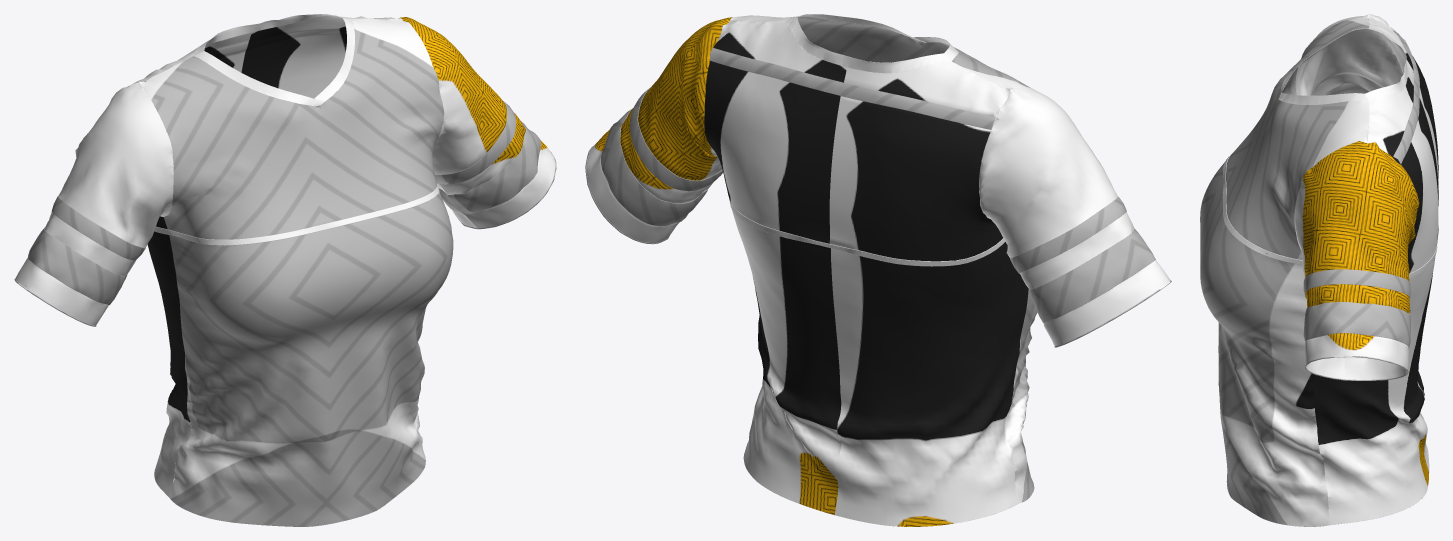
File: Quad.fbx
3 renders of one model, left to right at view 1: azimuth 30°, elevation 25°; view 2: azimuth 150°, elevation 25°; view 3: azimuth 270°, elevation 25°, orthographic. The views are drawn at different scales.
Parts seen in each view (by area): view 1: Quad; view 2: Quad; view 3: Quad.
Boxes of the visible parts, <box> form: Quad: <box>14,14,556,526</box>; Quad: <box>585,14,1171,526</box>; Quad: <box>1200,14,1438,526</box>.
Size of the model in its own units: 59.33 by 46.42 by 23.83.
